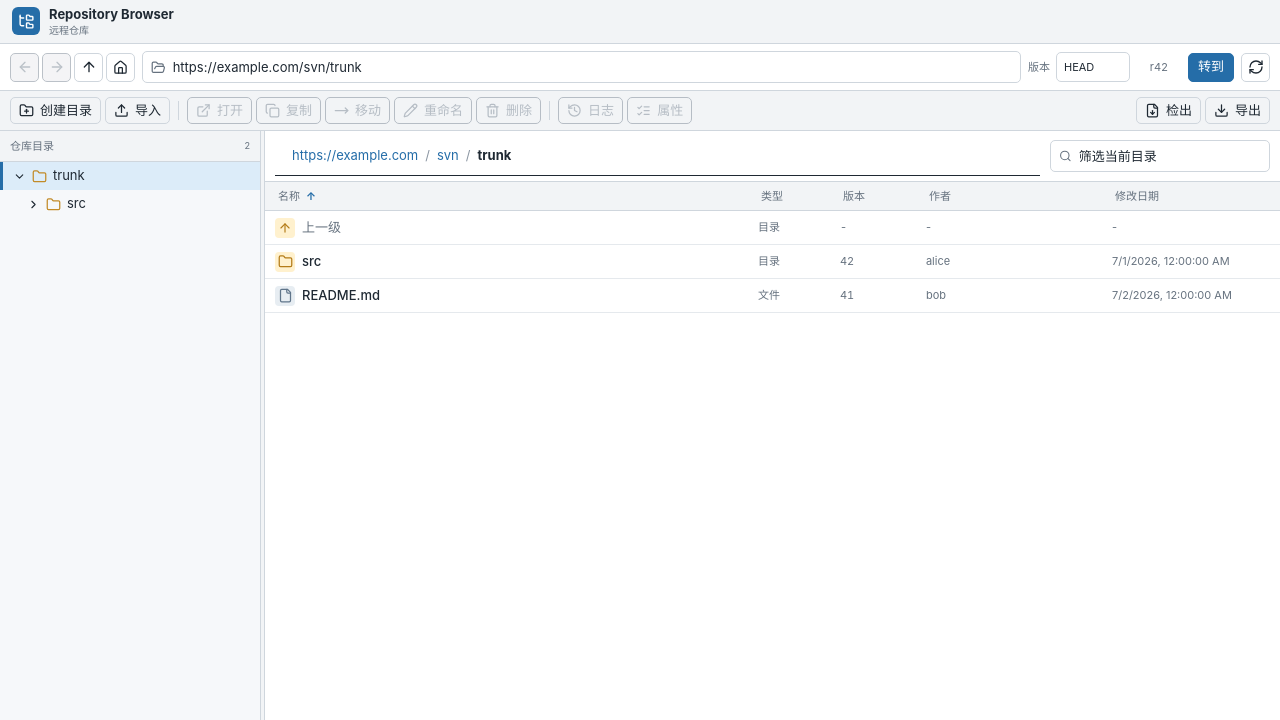
Test: StandaloneRepoBrowserWindow › 加载、选择和进入目录时不调整窗口大小，也不显示底部状态栏
The image size is (1280, 720).
Click the button with aria-label "打开仓库文件 README.md": point(772, 296) [265,279,1279,313]
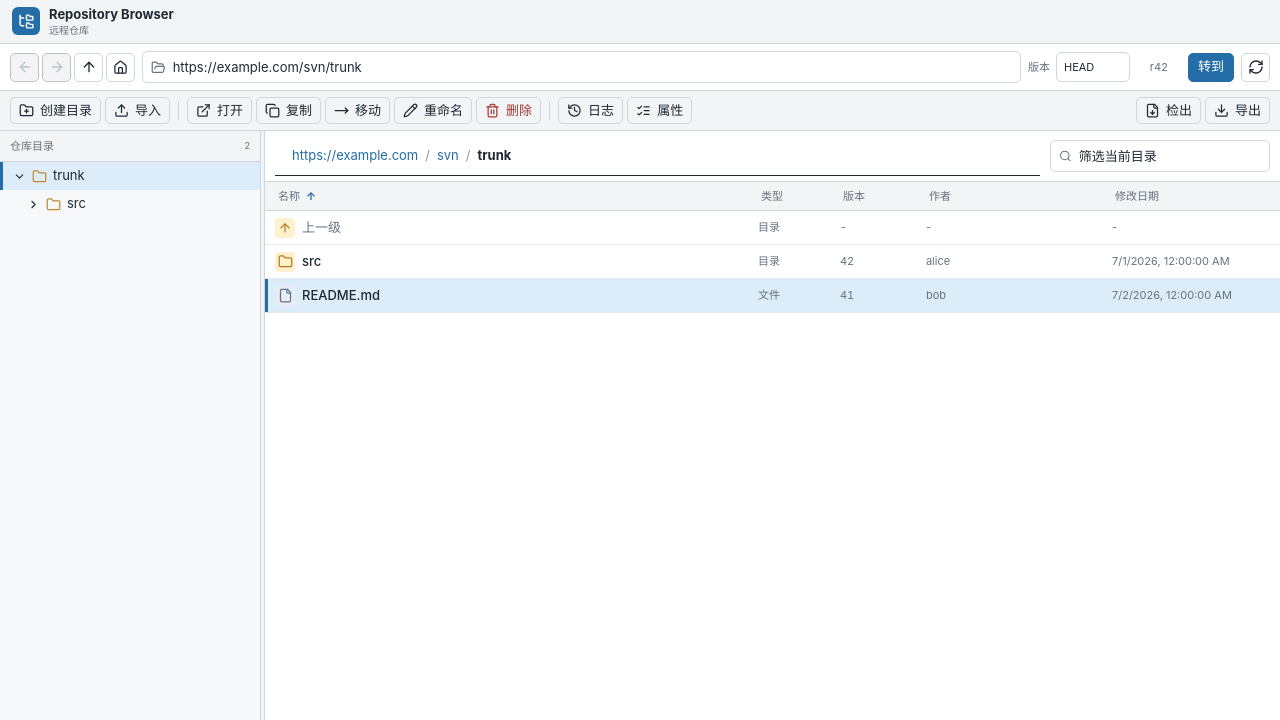
Double-click the button with aria-label "打开仓库目录 src": point(772, 262) [265,245,1279,279]
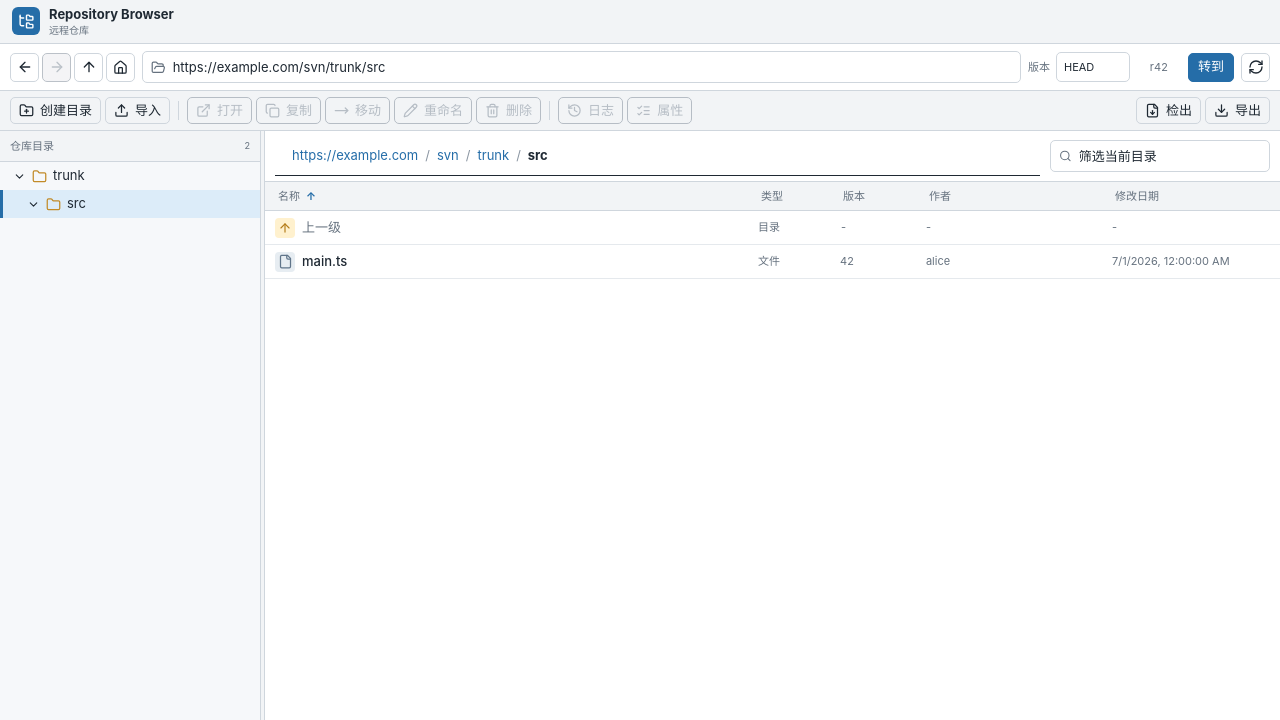
Now the button with aria-label "打开仓库文件 main.ts" is shown, box [265,245,1279,279]
